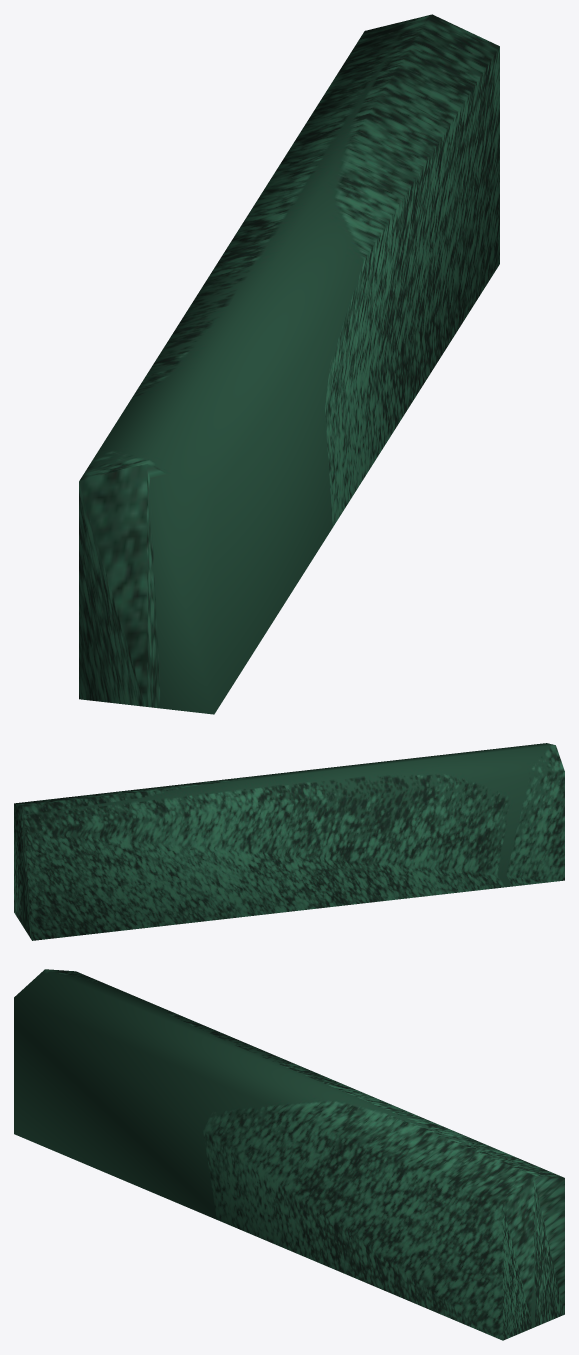
The model's file is Ring3W5.fbx.
The picture shows the model from 3 angles, top to bottom: view 1: azimuth 30°, elevation 25°; view 2: azimuth 150°, elevation 25°; view 3: azimuth 270°, elevation 25°; orthographic projection. The views are drawn at different scales.
Visible parts, largest first — view 1: Ring3W5; view 2: Ring3W5; view 3: Ring3W5.
Part boxes in pixels (x1=…): Ring3W5: x1=79, y1=14, x2=499, y2=714; Ring3W5: x1=14, y1=743, x2=564, y2=940; Ring3W5: x1=14, y1=969, x2=564, y2=1340.
Size of the model in its own units: 1316 by 400 by 1316.
